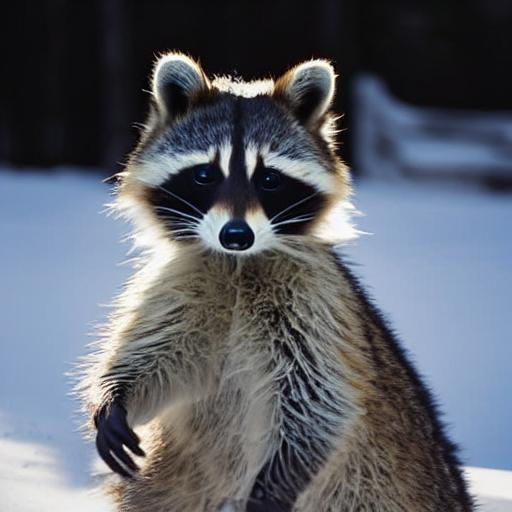raccoon: (87, 47, 473, 512)
